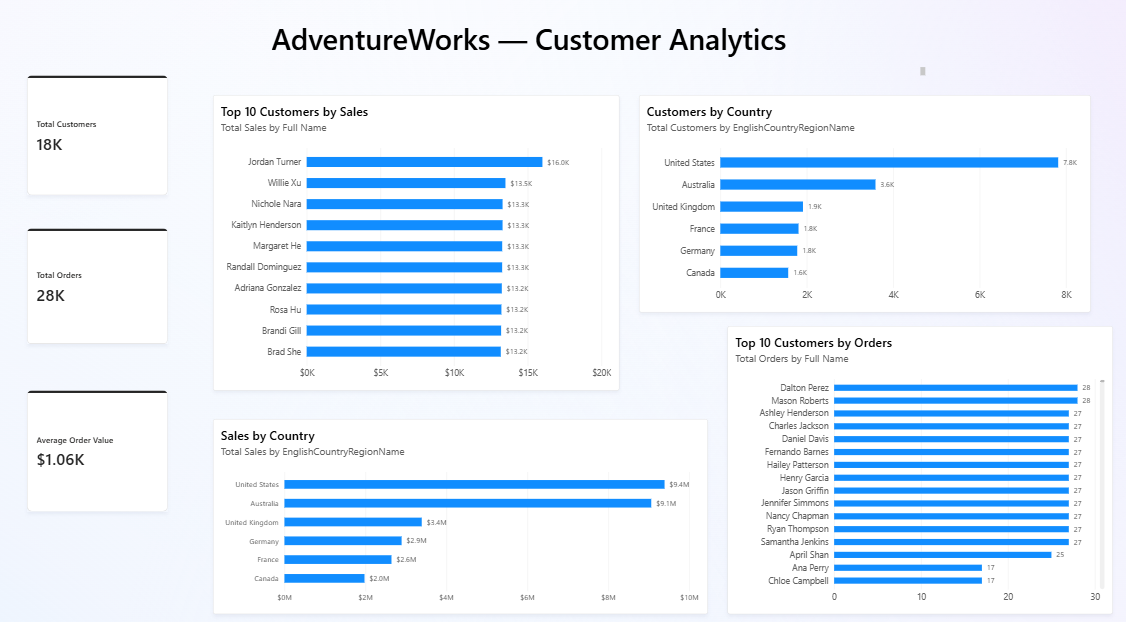

The page's visual inventory and layout, read from the dashboard file:
{"tool":"powerbi","page":{"name":"Customer Analytics","canvas":[1920,1080],"ordinal":2},"visuals":[{"type":"cardVisual","fields":{"Data":["Measure.Total Customers"]},"box":[97.2,167.6,228.3,194.3],"z":0},{"type":"cardVisual","fields":{"Data":["Measure.Total Orders"]},"box":[97.2,415.3,228.3,187],"z":1000},{"type":"cardVisual","fields":{"Data":["Measure.Average Order Value"]},"box":[97.2,677.6,228.3,196.7],"z":2000},{"type":"clusteredBarChart","title":"Top 10 Customers by Sales","fields":{"Category":["DimCustomer.Full Name"],"Y":["Measure.Total Sales"]},"box":[398.3,199.2,658.2,478.5],"z":3000},{"type":"clusteredBarChart","title":"Customers by Country","fields":{"Category":["DimGeography.EnglishCountryRegionName"],"Y":["Measure.Total Customers"]},"box":[1088.1,199.2,731.1,352.2],"z":4000},{"type":"clusteredBarChart","title":"Top 10 Customers by Orders","fields":{"Category":["DimCustomer.Full Name"],"Y":["Measure.Total Orders"]},"box":[1231.4,573.2,624.2,466.3],"z":5000},{"type":"clusteredBarChart","title":"Sales by Country","fields":{"Category":["DimGeography.EnglishCountryRegionName"],"Y":["Measure.Total Sales"]},"box":[398.3,723.8,801.5,315.7],"z":6000},{"type":"textbox","title":"AdventureWorks — Customer Analytics","box":[493.1,75.3,1059,92.3],"z":7000}]}

Visuals, with their boxes in screenshot pixels (x1, y1, x2, y2), scaled from the page's 1920x1080 canvas onto the 1126x622 screenshot:
cardVisual - Measure.Total Customers: select_region(57, 97, 191, 208)
cardVisual - Measure.Total Orders: select_region(57, 239, 191, 347)
cardVisual - Measure.Average Order Value: select_region(57, 390, 191, 504)
"Top 10 Customers by Sales" clusteredBarChart: select_region(234, 115, 620, 390)
"Customers by Country" clusteredBarChart: select_region(638, 115, 1067, 318)
"Top 10 Customers by Orders" clusteredBarChart: select_region(722, 330, 1088, 599)
"Sales by Country" clusteredBarChart: select_region(234, 417, 704, 599)
"AdventureWorks — Customer Analytics" textbox: select_region(289, 43, 910, 97)
